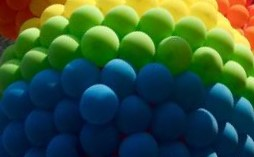Balloon: (79, 83, 119, 125), (137, 63, 175, 103), (82, 25, 120, 62), (149, 103, 187, 139), (81, 122, 119, 157), (61, 59, 100, 93), (117, 95, 151, 133), (186, 109, 219, 147), (102, 59, 136, 94), (29, 69, 60, 107), (157, 36, 191, 70), (191, 46, 222, 83), (120, 31, 155, 63), (2, 80, 30, 119), (119, 132, 159, 157), (25, 109, 55, 142), (52, 100, 82, 133), (46, 134, 80, 157), (227, 4, 249, 27)
